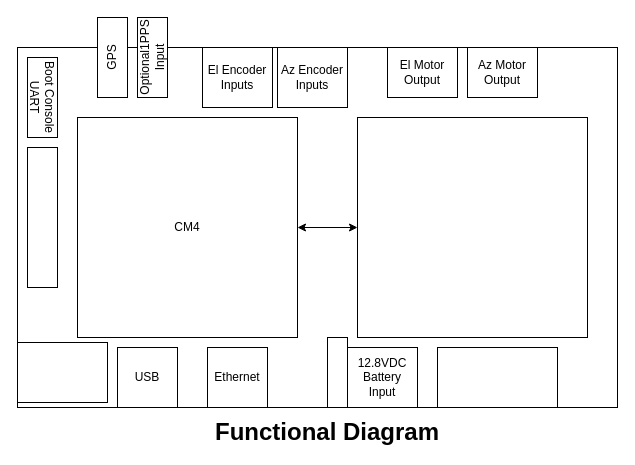
Image size: 635x465. Some labels were removed from this diagram. The shapes that lost their labels are listed below. From the top down, each one's centre as x and y in pixels, then its label:
At pixel 42 217: "GPIOs".
At pixel 472 227: "RoboClaw OEM".
At pixel 62 372: "OTG Programming".
At pixel 337 372: "Fuses".
At pixel 497 377: "EStop/Homing switch inputs".
